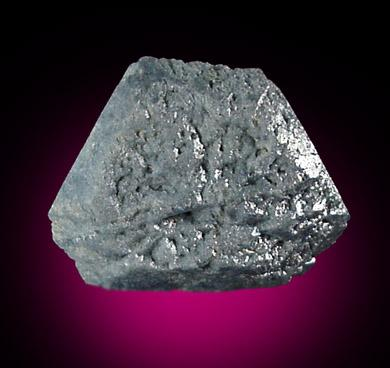benitoite: (49, 57, 351, 292)
